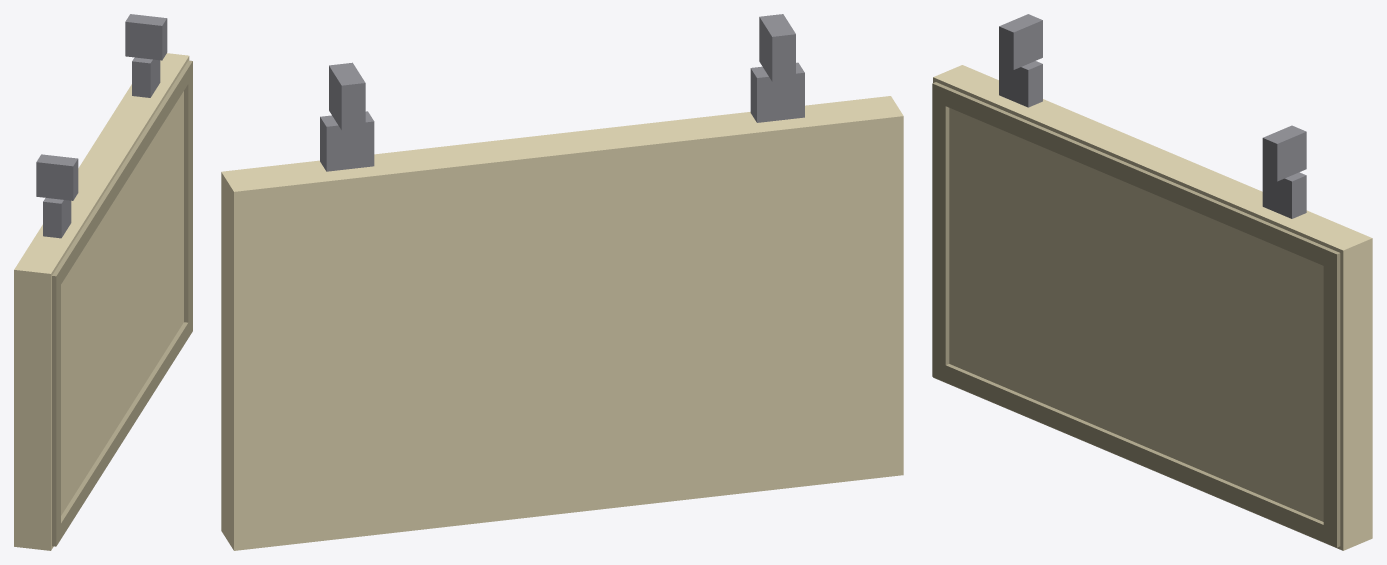
Rendered from sign_birch_hang_diag.gltf.
3 views of the same model, side by side, from view 1: azimuth 30°, elevation 25°; view 2: azimuth 150°, elevation 25°; view 3: azimuth 270°, elevation 25° (orthographic). The views are drawn at different scales.
Visible parts, largest first — view 1: sign_birch_hang_diag; view 2: sign_birch_hang_diag; view 3: sign_birch_hang_diag.
Boxes of the visible parts, <box> form: sign_birch_hang_diag: <box>14,14,192,550</box>; sign_birch_hang_diag: <box>221,14,903,550</box>; sign_birch_hang_diag: <box>932,14,1372,550</box>.
Bounding box in the file's own units: 0.664 × 0.631 × 0.664.
